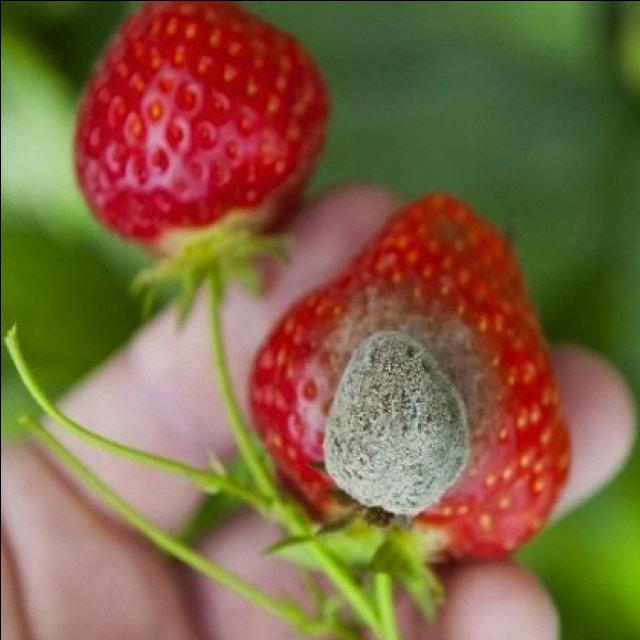Gray Mold: (302, 282, 502, 518)
